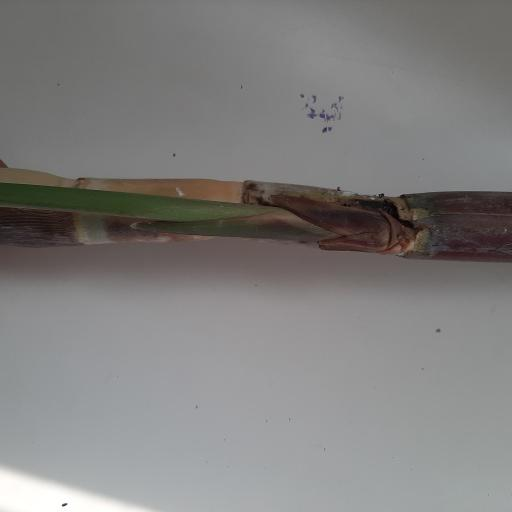Sprouted_Bud: (323, 215, 414, 253)
